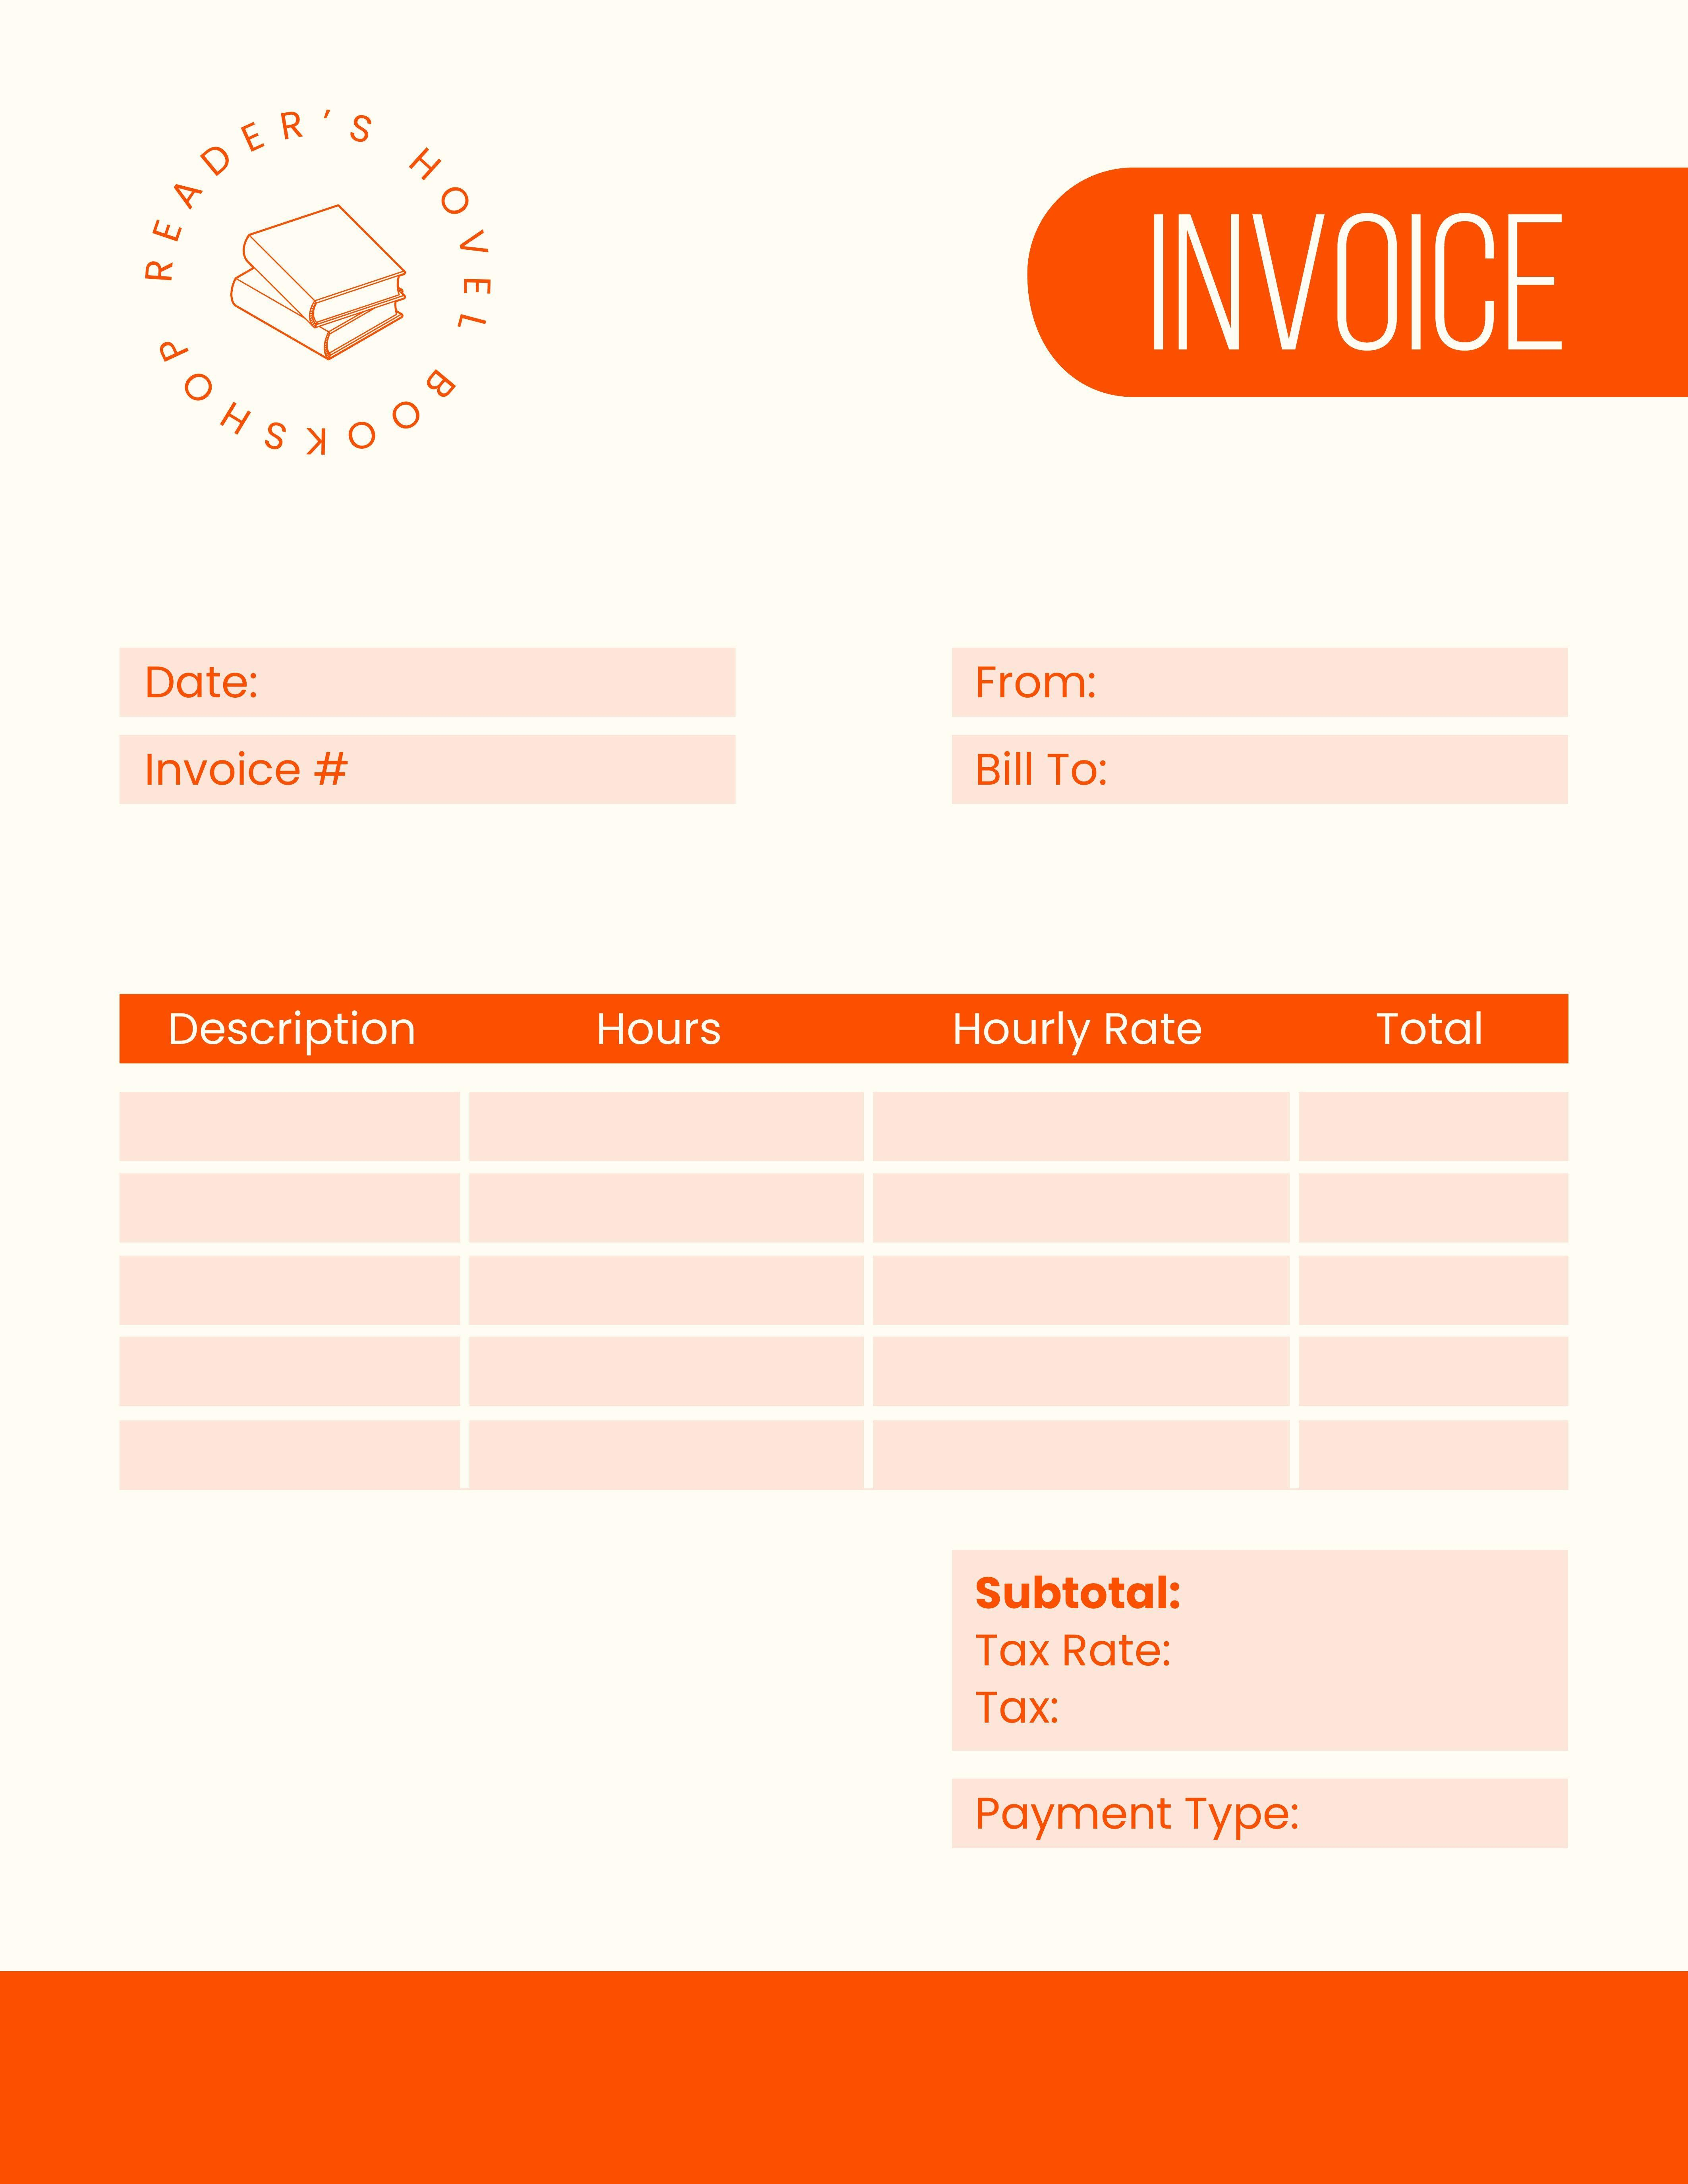ROI: (128, 993, 1564, 1491), (957, 1540, 1575, 1757), (115, 643, 736, 803), (957, 643, 1567, 721), (961, 734, 1580, 807), (965, 1783, 1560, 1854)
